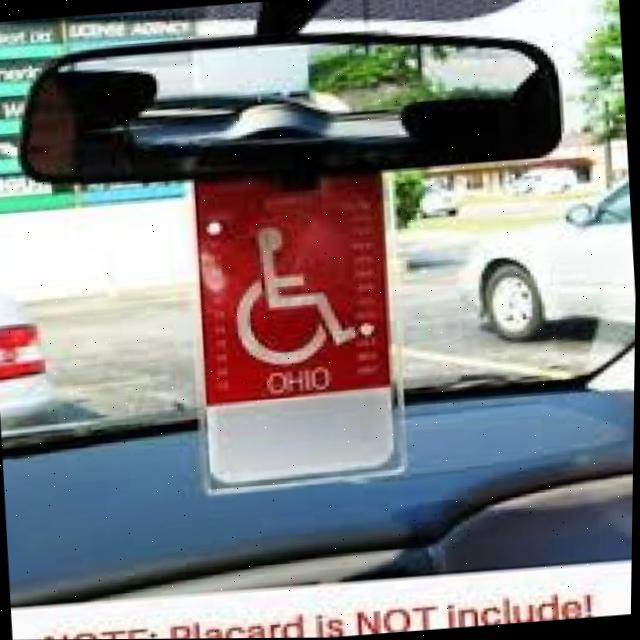symbol_of_access: (231, 222, 363, 369)
